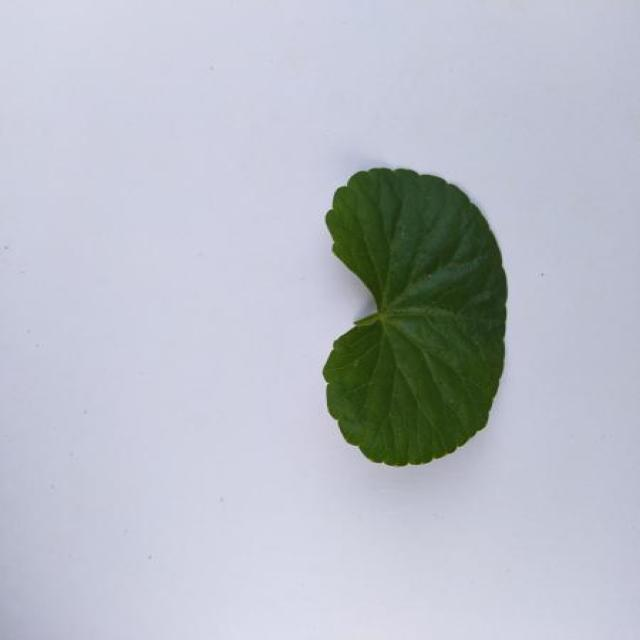bhrami: (323, 169, 507, 466)
